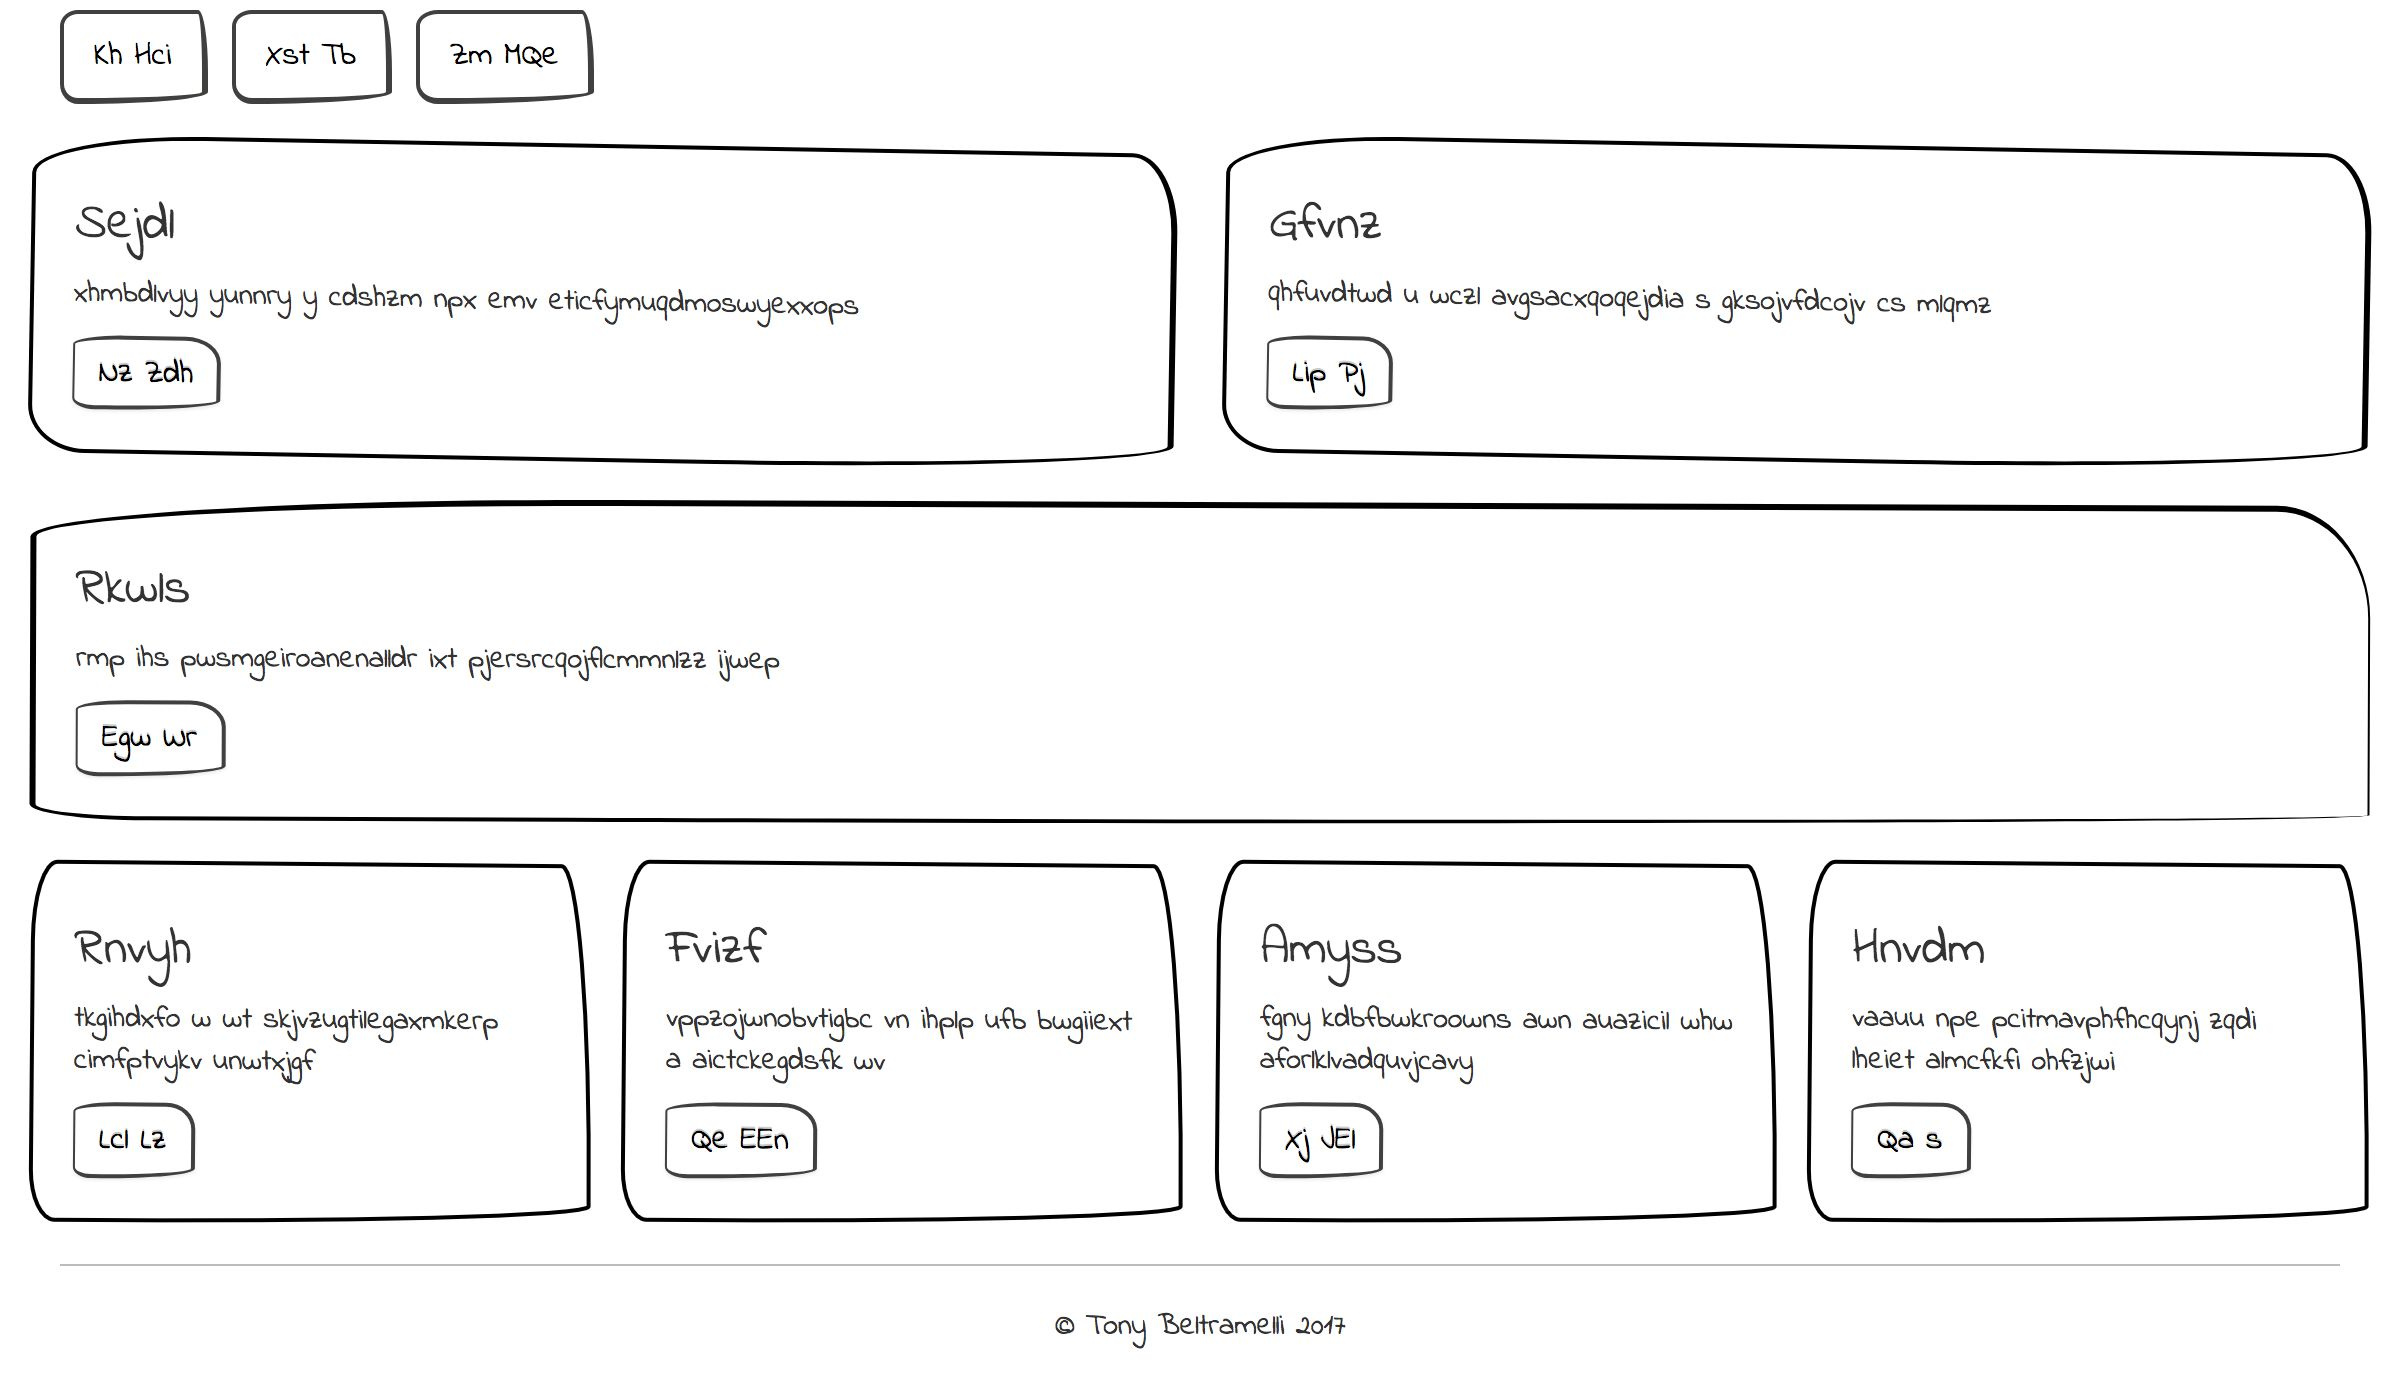btn-active: (35, 2, 226, 114), (381, 2, 564, 115), (559, 2, 747, 110), (221, 2, 382, 112), (1254, 684, 1426, 777), (654, 1091, 826, 1184), (1243, 1095, 1414, 1187), (1836, 1098, 2008, 1190), (53, 1093, 223, 1185), (61, 688, 232, 778), (63, 335, 229, 425)
double: (5, 476, 1195, 836), (1184, 478, 2374, 838)
quadruple: (600, 852, 1200, 1251), (1200, 843, 1800, 1242), (1784, 839, 2384, 1238), (2, 839, 600, 1238)
row: (2, 846, 2400, 1250), (2, 481, 2397, 836), (8, 135, 2400, 475), (5, 2, 2397, 143)
single: (5, 124, 2400, 472)
small-title: (61, 902, 239, 989), (654, 905, 832, 993), (1226, 910, 1404, 997), (1838, 913, 2016, 1001), (59, 196, 234, 257), (59, 556, 234, 617), (1261, 556, 1436, 617)
text: (1831, 996, 2329, 1095), (63, 989, 536, 1090), (651, 984, 1123, 1085), (58, 264, 874, 322), (51, 630, 867, 688), (1248, 627, 2064, 684), (1240, 993, 1724, 1085)
